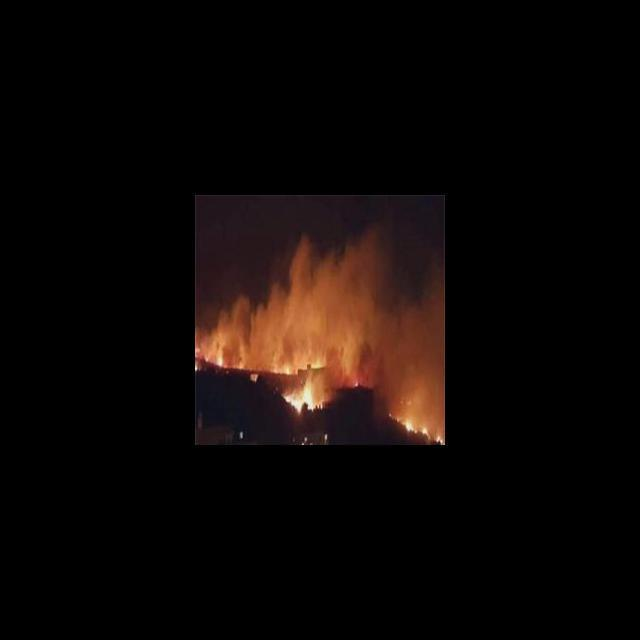Fire: (278, 372, 322, 412), (403, 420, 415, 434), (434, 434, 444, 444), (422, 425, 428, 438)
Smoke: (215, 231, 444, 361)
